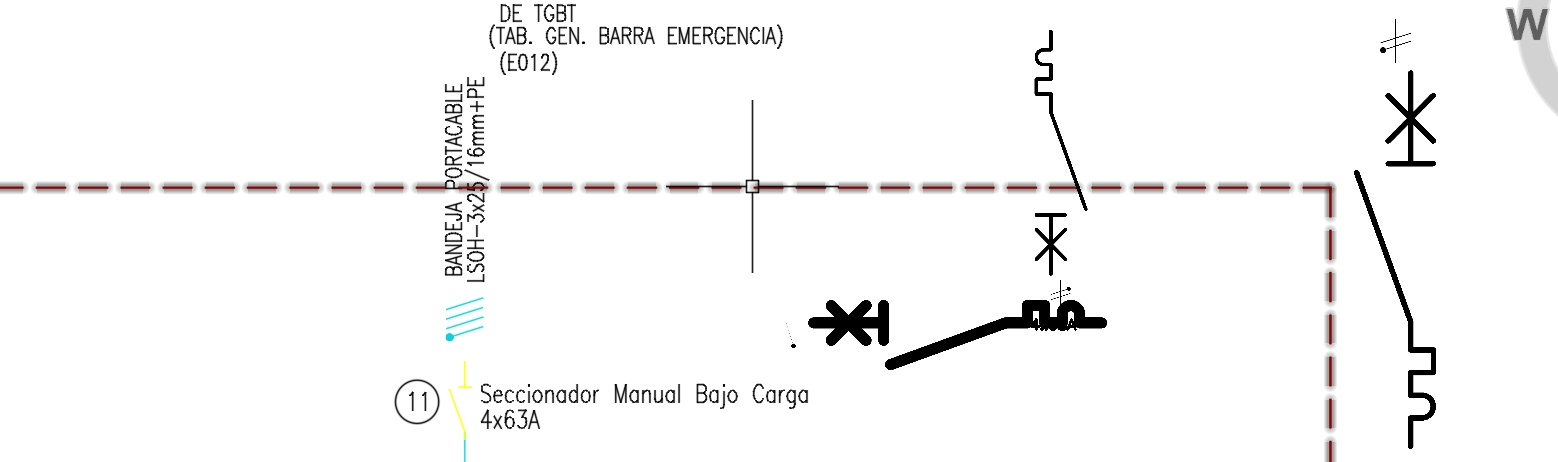interruptor_termomagnetico: (1347, 63, 1443, 456), (806, 298, 1109, 372), (1030, 25, 1092, 280)
